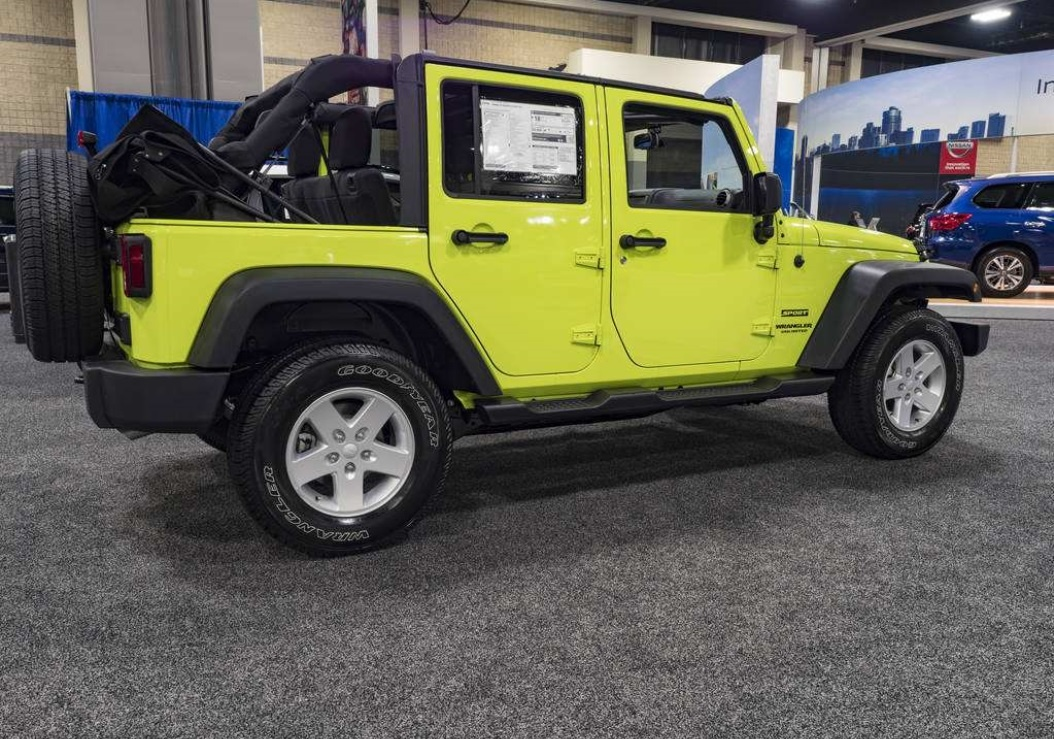jeep: (66, 60, 983, 550)
